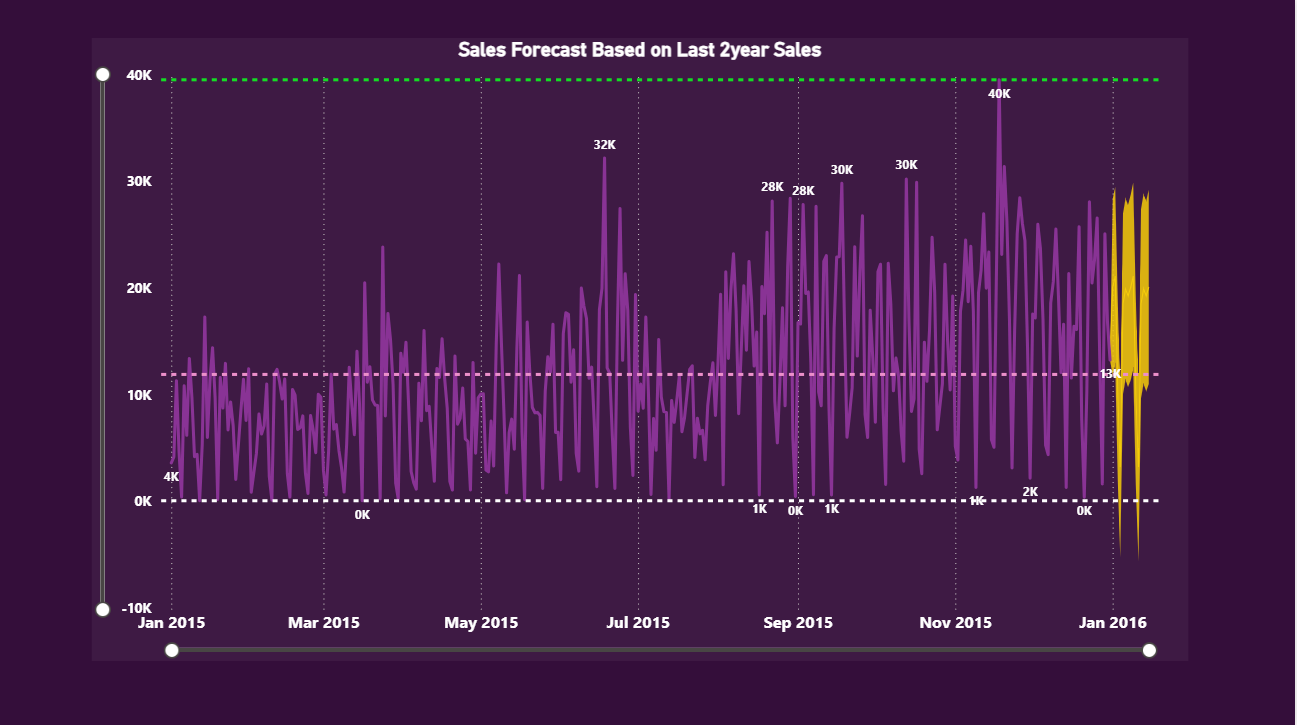

What the dashboard file says about the page in this screenshot:
{"tool":"powerbi","page":{"name":"Forecast","canvas":[1280,720],"ordinal":3},"visuals":[{"type":"lineChart","title":"Sales Forecast Based on Last 2year Sales","fields":{"Y":["Sum(Orders.Sales)"],"Category":["Orders.Order Date"]},"box":[91.7,39.8,1083.4,615.3],"z":0}]}

Visuals, with their boxes in screenshot pixels (x1, y1, x2, y2), scaled from the page's 1280x720 canvas onto the 1297x725 screenshot:
"Sales Forecast Based on Last 2year Sales" lineChart: 93 40 1191 660
